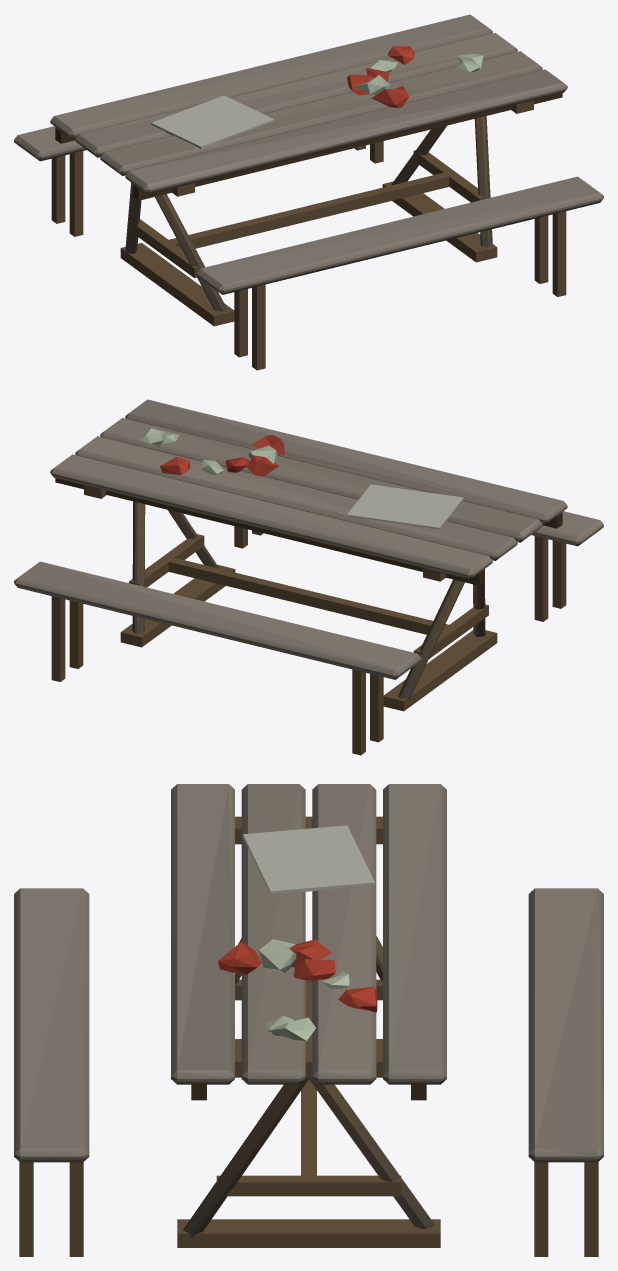
The model's file is plank-table.glb.
3 views of the same model, one above another, from view 1: azimuth 30°, elevation 25°; view 2: azimuth 150°, elevation 25°; view 3: azimuth 270°, elevation 25° (orthographic). The views are drawn at different scales.
Visible parts, largest first — view 1: plank_table; view 2: plank_table; view 3: plank_table.
Boxes of the visible parts, <box> form: plank_table: <box>14,14,603,370</box>; plank_table: <box>14,399,603,755</box>; plank_table: <box>14,784,603,1256</box>.
Bounding box in the file's own units: 2.2 × 0.8606 × 1.88.
